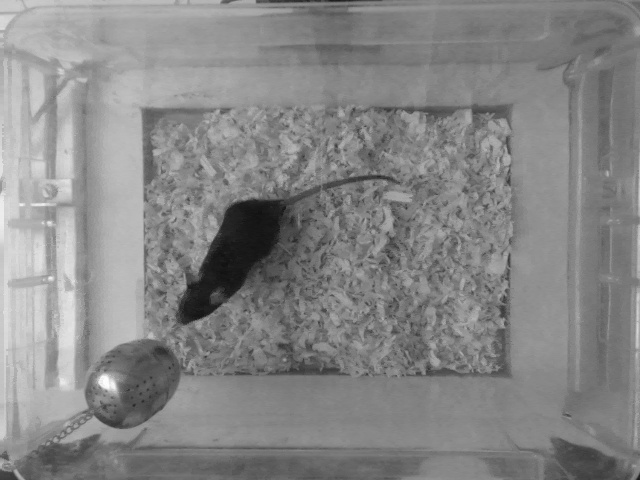mice: (172, 175, 416, 328)
